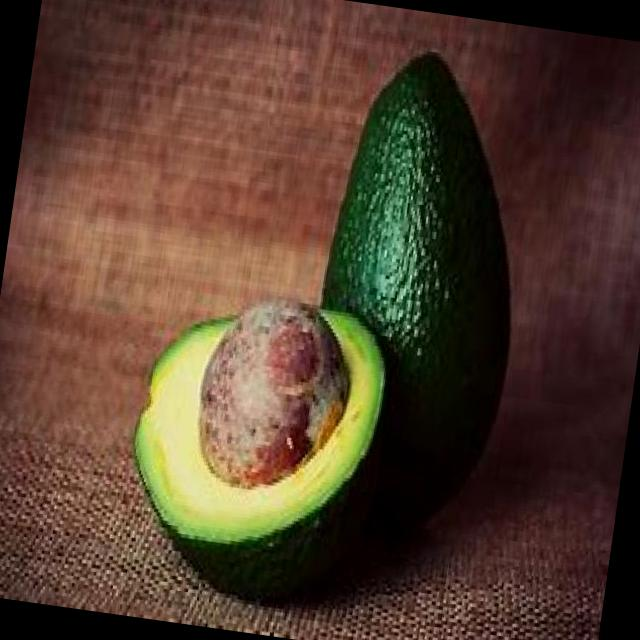avocado: (291, 38, 555, 515), (110, 276, 390, 586)
